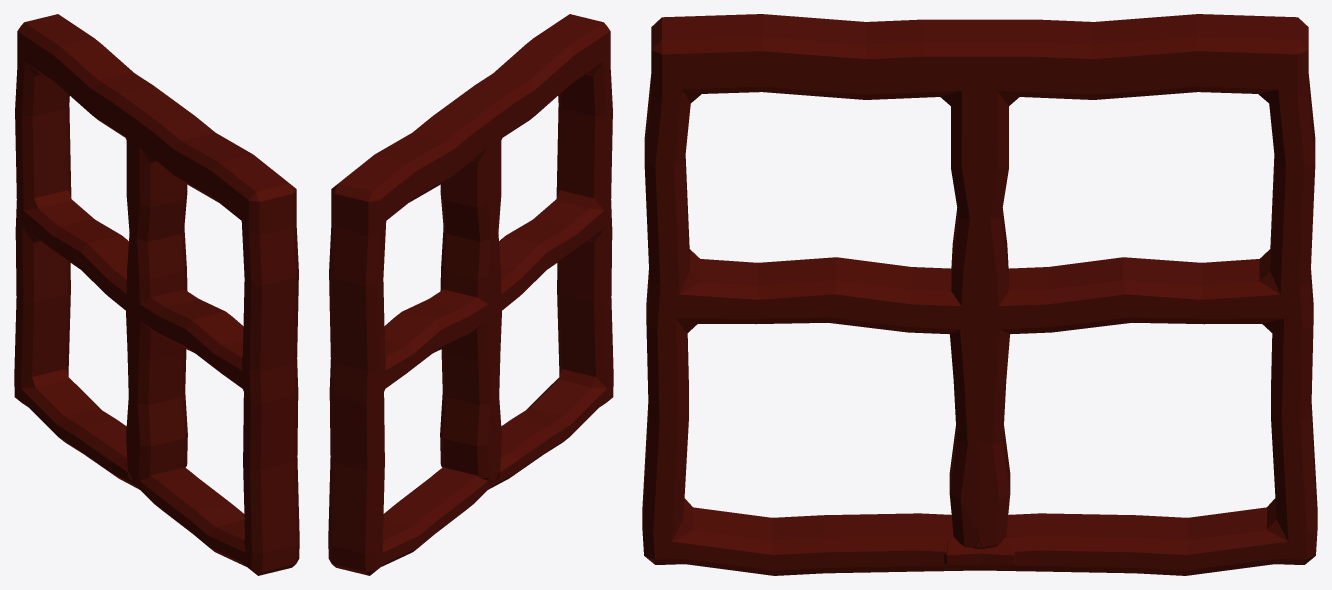
The model's file is Window.fbx.
3 views of the same model, side by side, from view 1: azimuth 30°, elevation 25°; view 2: azimuth 150°, elevation 25°; view 3: azimuth 270°, elevation 25° (orthographic). The views are drawn at different scales.
Parts seen in each view (by area): view 1: Cube.001; view 2: Cube.001; view 3: Cube.001.
Boxes of the visible parts, bbox=[...] form: Cube.001: bbox=[14, 14, 299, 575]; Cube.001: bbox=[328, 14, 613, 575]; Cube.001: bbox=[642, 14, 1317, 575].
Bounding box in the file's own units: 5.21 × 38.79 × 44.01.
